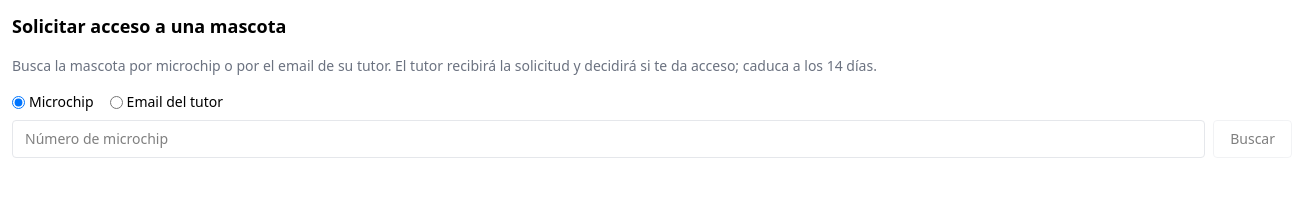
Test: CareLinkRequestPanel (FE-008, PRD-020) › muestra el error del servidor (límite de búsquedas)
Step 1. Type "982000123456789" into the field with id "lookup-term" → [609, 139], box [12,120,1205,158]
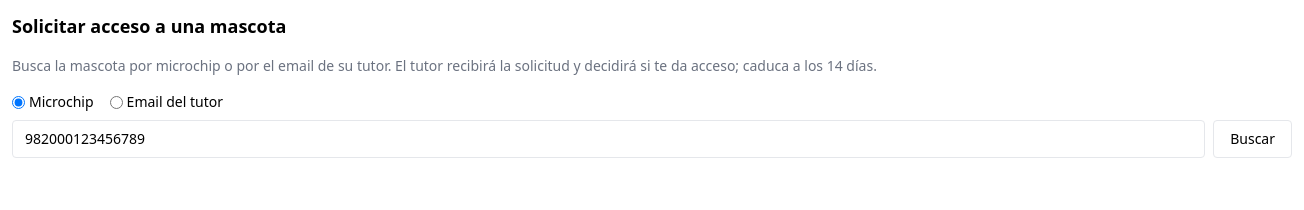
Step 2. Submit the form, box [12,92,1292,158]
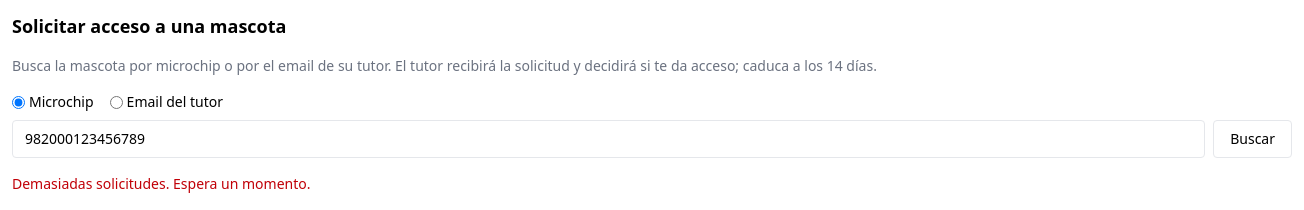
expect the message with test id "request-error" reads "Demasiadas solicitudes. Espera un momento.": met, box [12,174,310,193]
